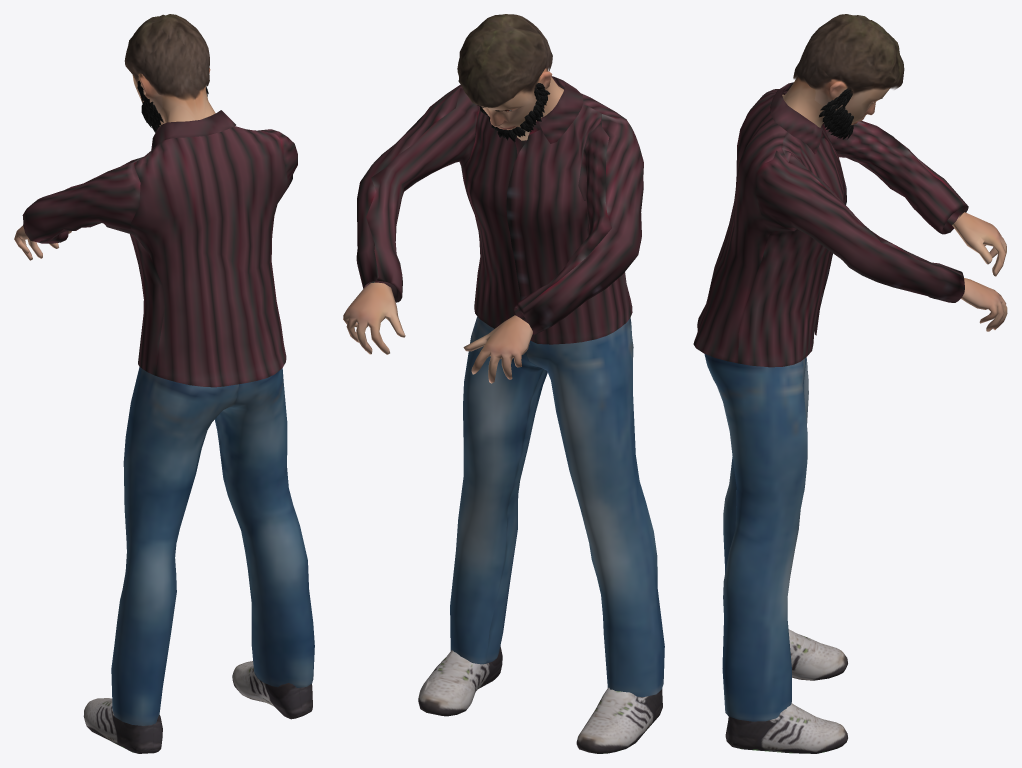
File: casual_shirt_working.glb
3 renders of one model, left to right at view 1: azimuth 30°, elevation 25°; view 2: azimuth 150°, elevation 25°; view 3: azimuth 270°, elevation 25°, orthographic. The views are drawn at different scales.
Parts seen in each view (by area): view 1: Human_atlas; view 2: Human_atlas; view 3: Human_atlas.
Part boxes in pixels (left/top/right/bottom): Human_atlas: left=14, top=14, right=314, bottom=753; Human_atlas: left=343, top=14, right=664, bottom=753; Human_atlas: left=693, top=14, right=1007, bottom=753.
Bounding box in the file's own units: 0.6591 × 1.65 × 0.6769.
Materials: 1 (1 with a texture image).
